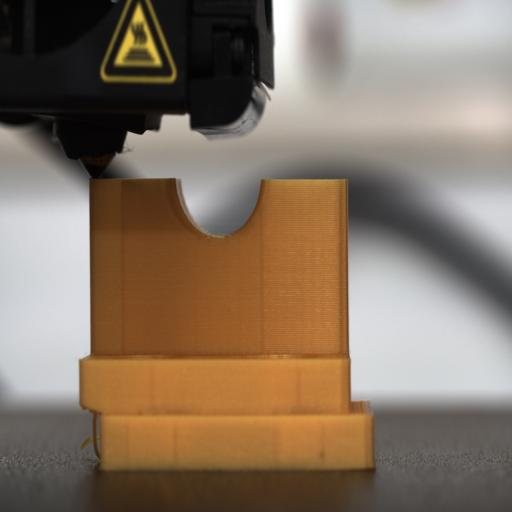layer_shift: (80, 398, 373, 422)
